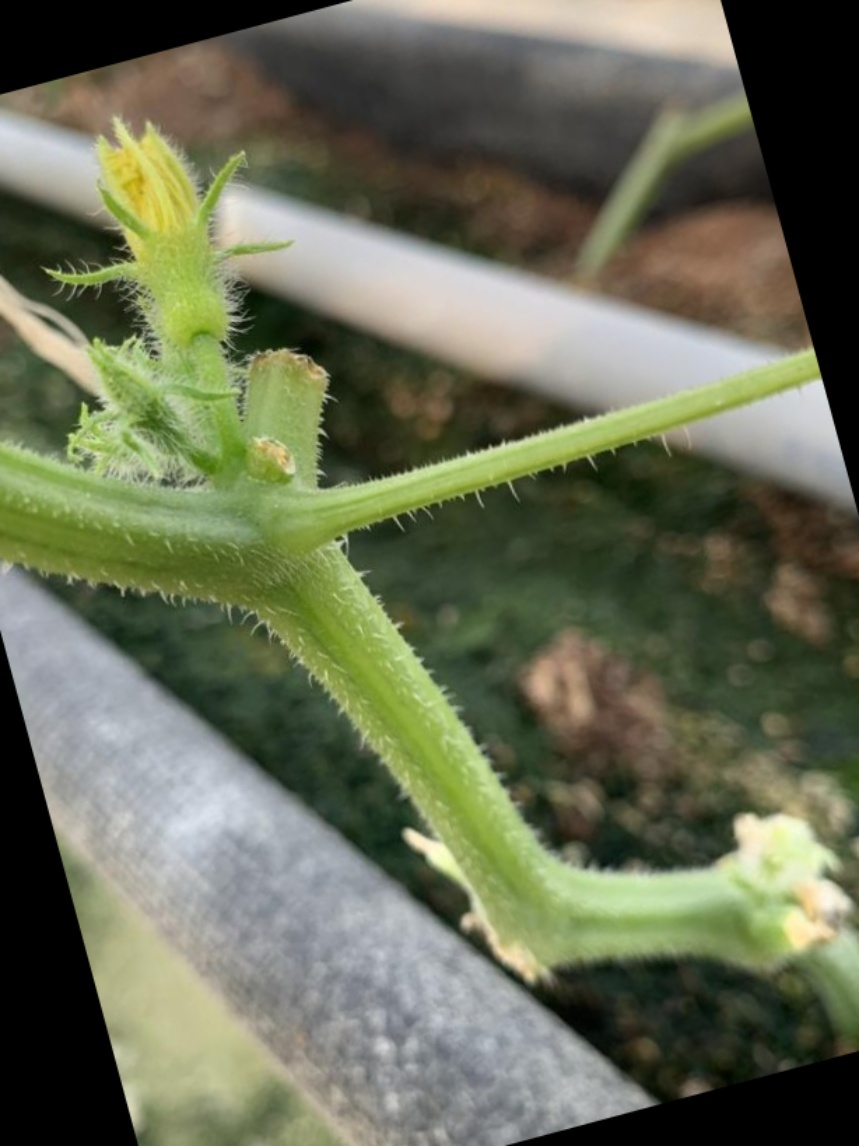bud: (69, 119, 291, 366)
